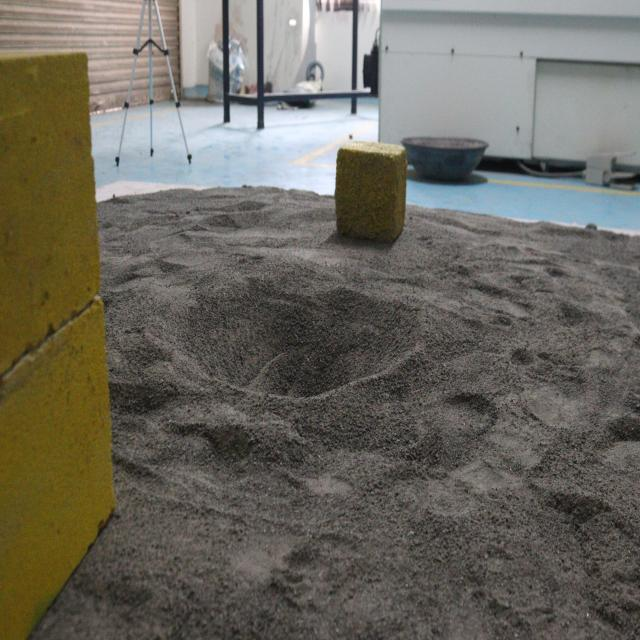box: (0, 40, 120, 640), (333, 133, 410, 256)
crater: (144, 234, 432, 419)
